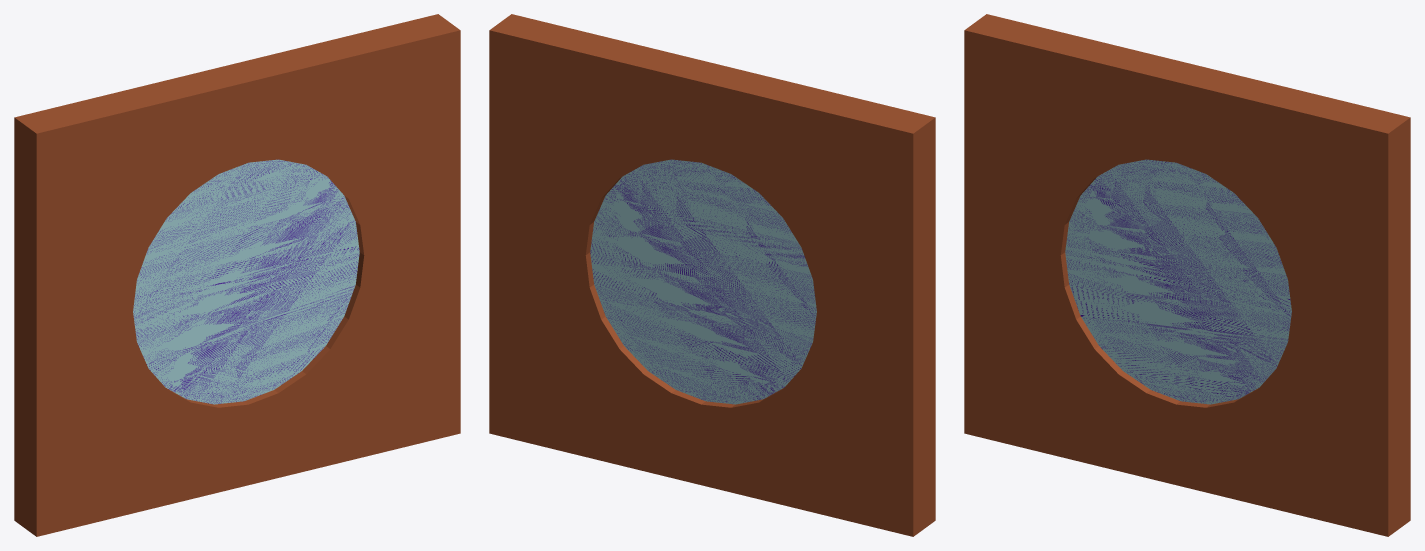
Rendered from wall_window_round_1.fbx.
The picture shows the model from 3 angles, left to right: view 1: azimuth 30°, elevation 25°; view 2: azimuth 150°, elevation 25°; view 3: azimuth 330°, elevation 25°; orthographic projection.
Visible parts, largest first — view 1: Mesh1_Component_2_1 Model, Mesh2_Component_3_1 Model; view 2: Mesh1_Component_2_1 Model, Mesh2_Component_3_1 Model; view 3: Mesh1_Component_2_1 Model, Mesh2_Component_3_1 Model.
Boxes of the visible parts, x1,y1,x2,y2 form: Mesh1_Component_2_1 Model: [14, 14, 460, 536]; Mesh2_Component_3_1 Model: [133, 159, 359, 404]; Mesh1_Component_2_1 Model: [489, 14, 935, 536]; Mesh2_Component_3_1 Model: [590, 159, 816, 404]; Mesh1_Component_2_1 Model: [964, 14, 1410, 536]; Mesh2_Component_3_1 Model: [1065, 159, 1291, 404].
Bounding box in the file's own units: 1.1 × 1 × 0.1.
